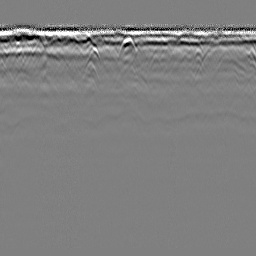cavity: (120, 33, 137, 55)
